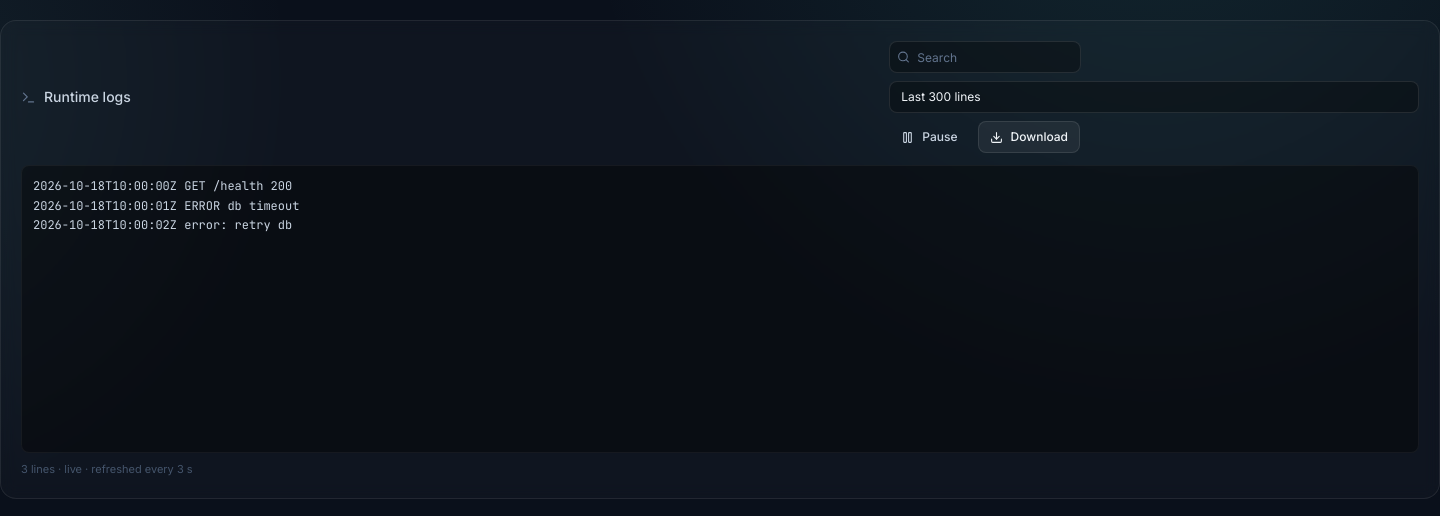
RuntimeLogsCard › pauses and resumes the live refresh
Click the button with aria-label "Pause live logs": [929, 137] box [889,121,970,153]
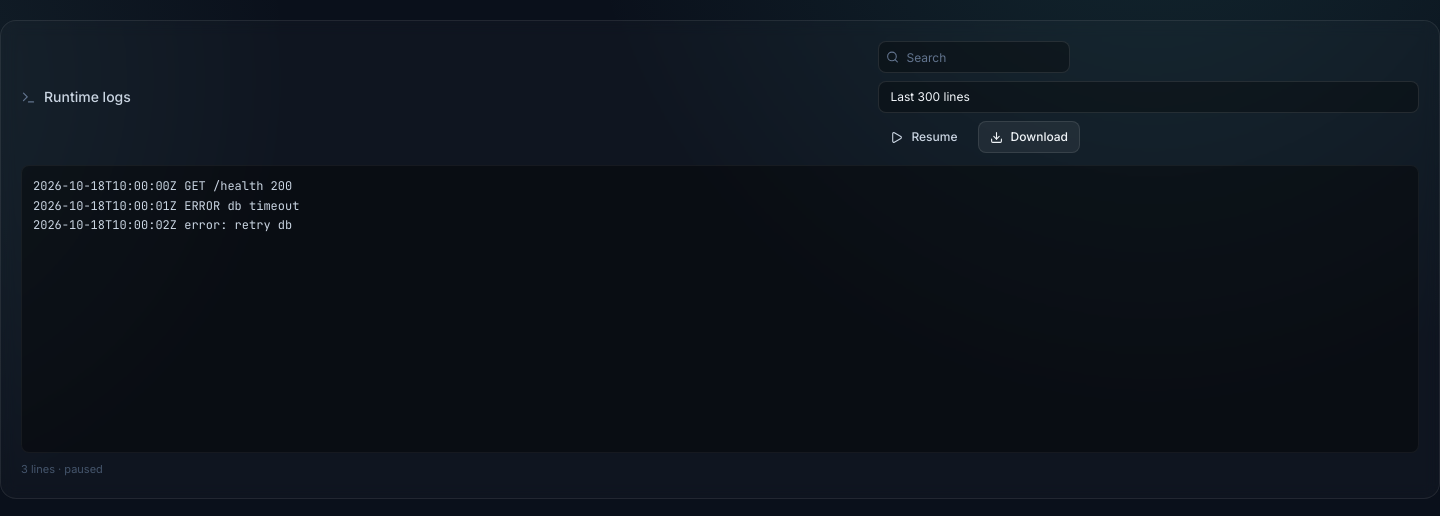
expect the text "3 lines · paused" is shown: met, box [21,462,103,476]
Click the button with aria-label "Resume live logs": [924, 137] box [878,121,970,153]
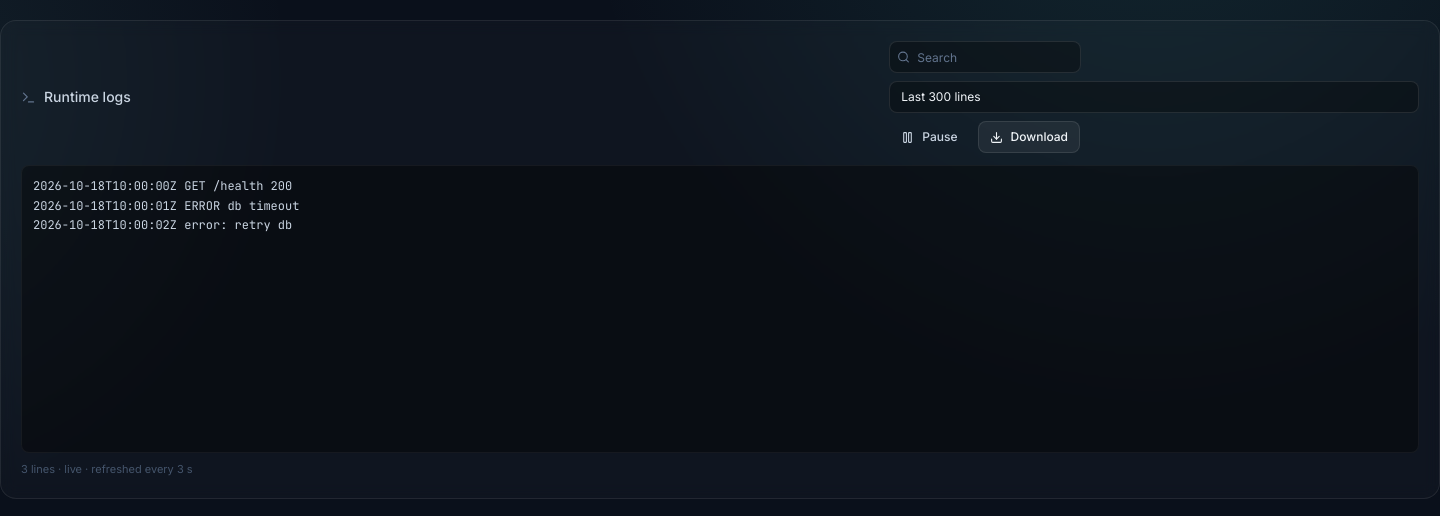
expect the text "3 lines · live · refreshed every 3 s" is shown: met, box [21,462,193,476]
